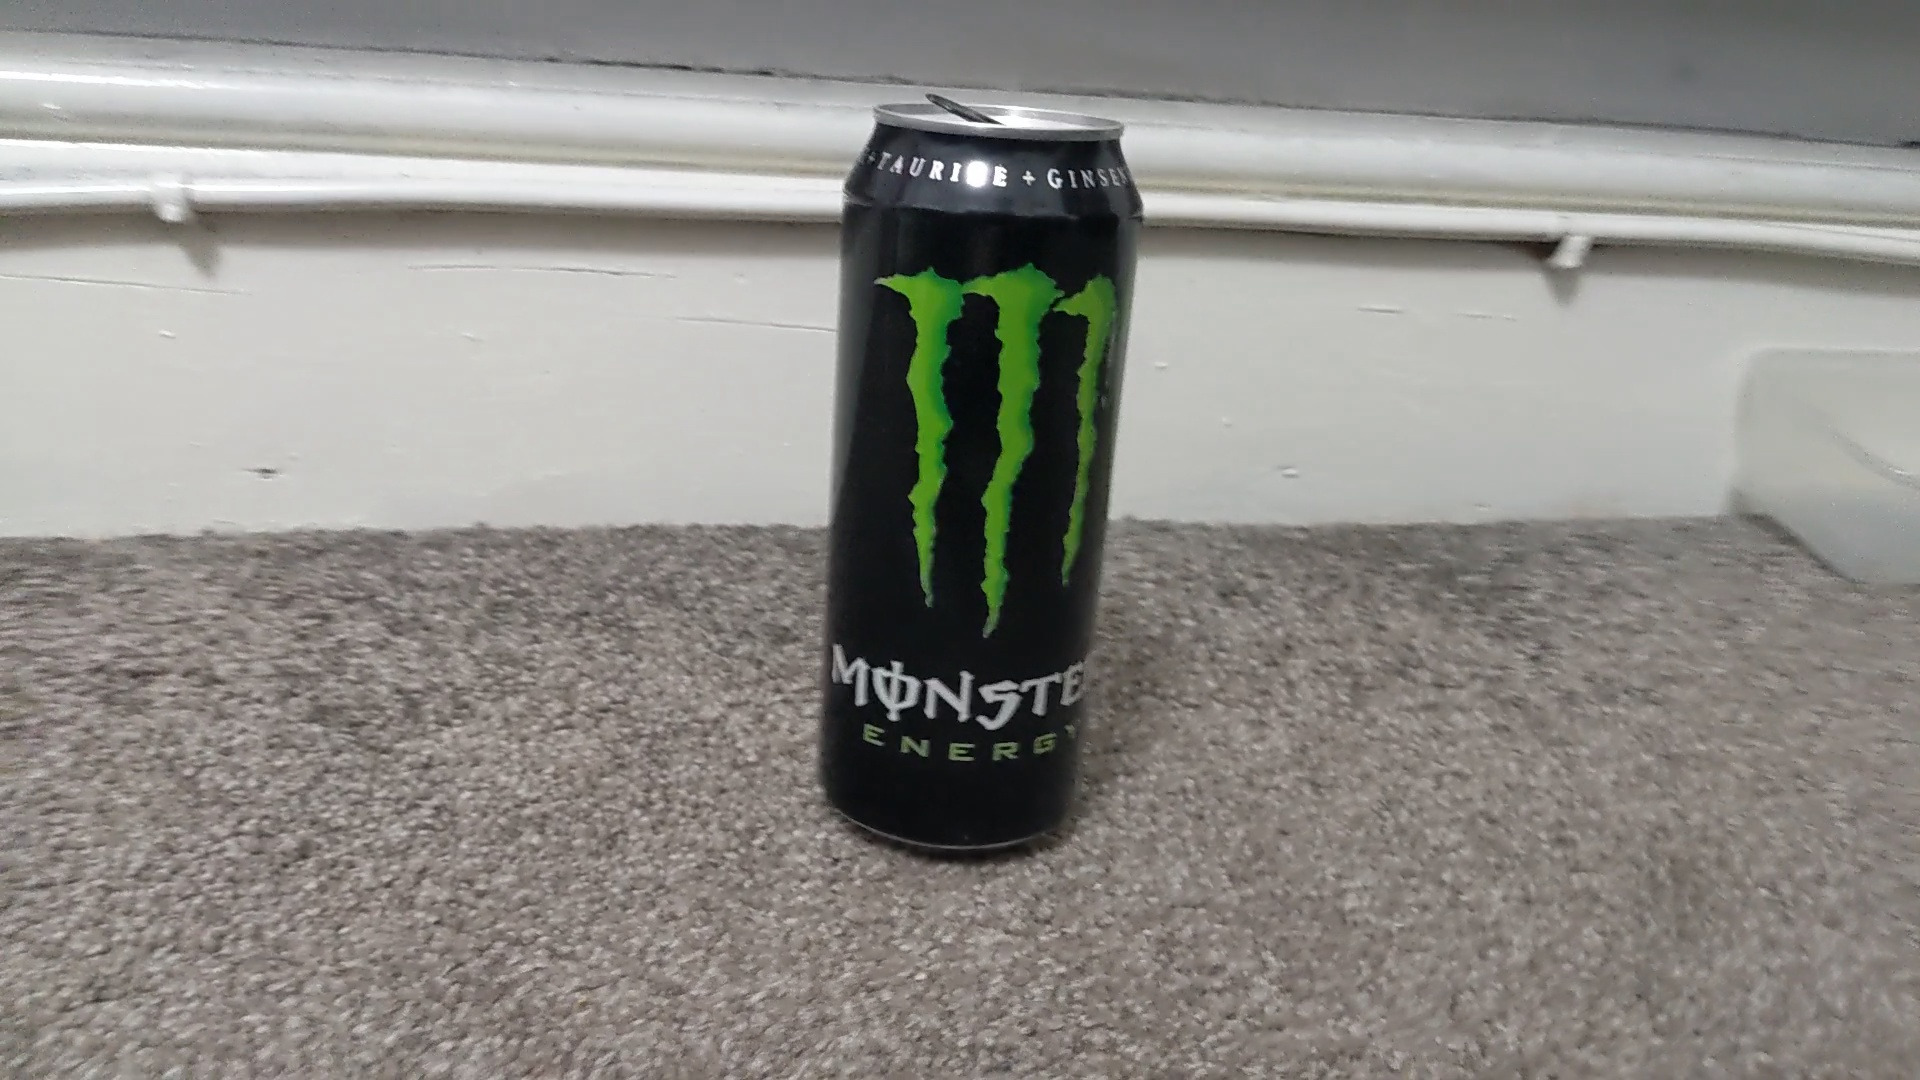monster-original: (818, 105, 1147, 855)
